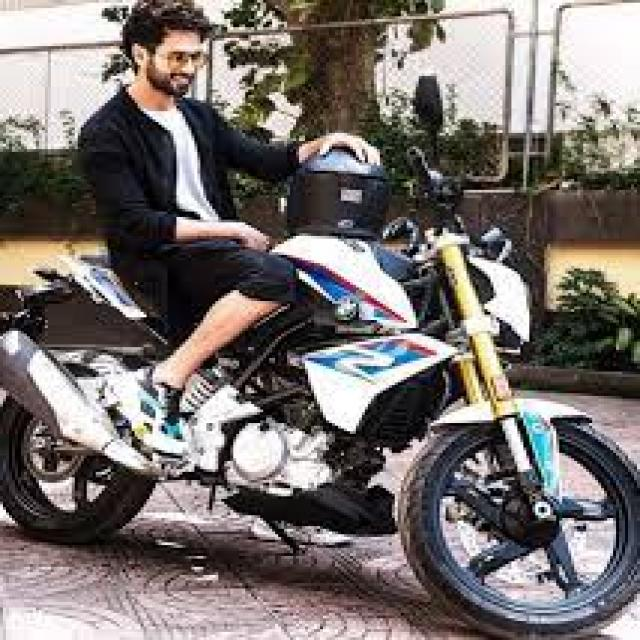Bike: (17, 168, 640, 640)
